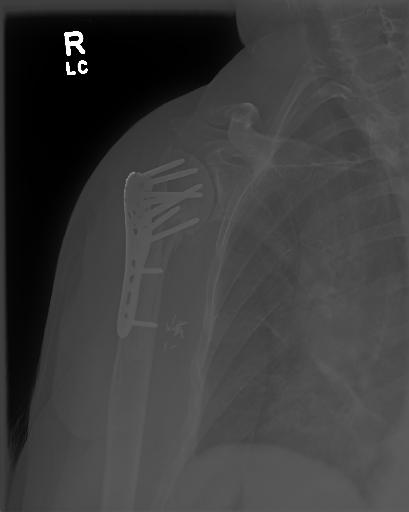shoulder fracture: (155, 228, 186, 274)
